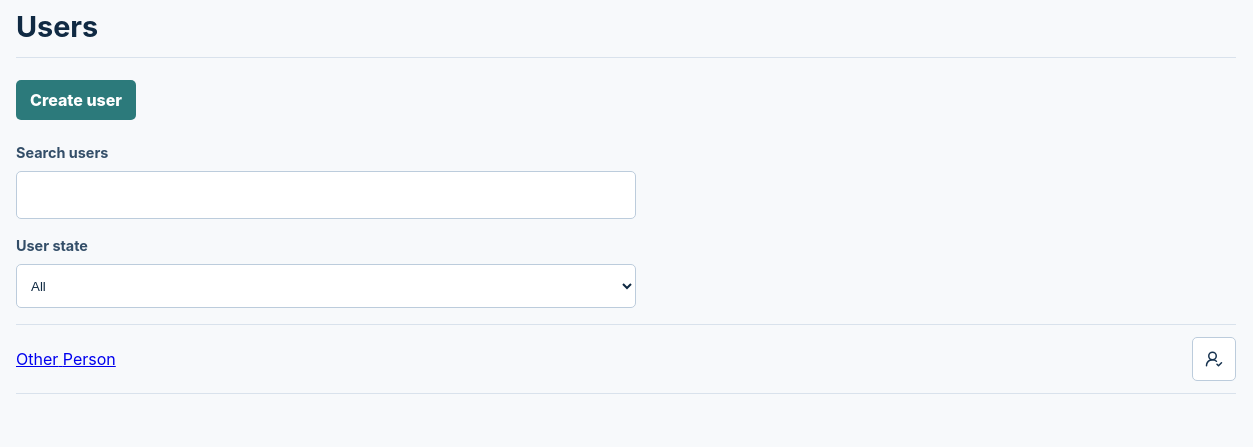
Test case: shows API errors for Unblock Other Person and enables retry
Click the button named "Unblock Other Person". click: (1214,359)
box: [1192,337,1236,381]
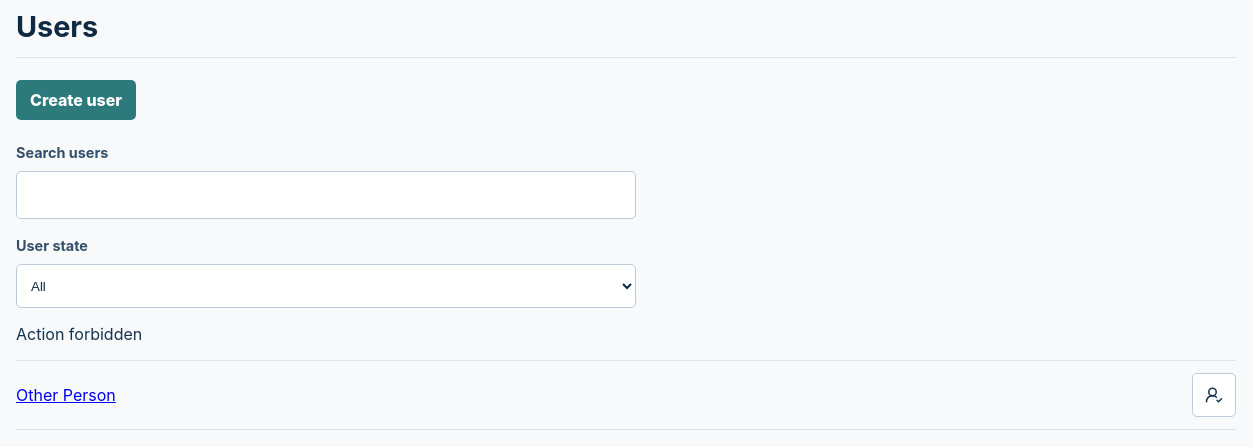
Check: the button named "Unblock Other Person" is enabled, box [1192,373,1236,417]
Check: the message reads "Action forbidden", box [16,324,142,344]
